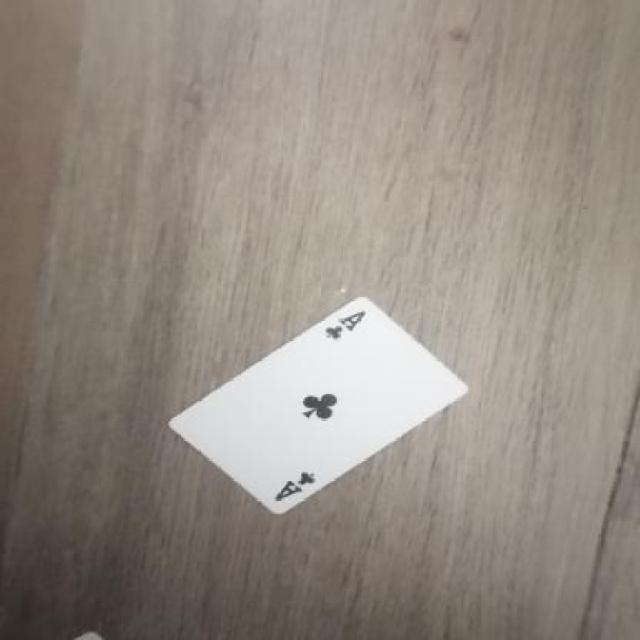AC: (264, 456, 330, 502), (312, 304, 378, 345)
